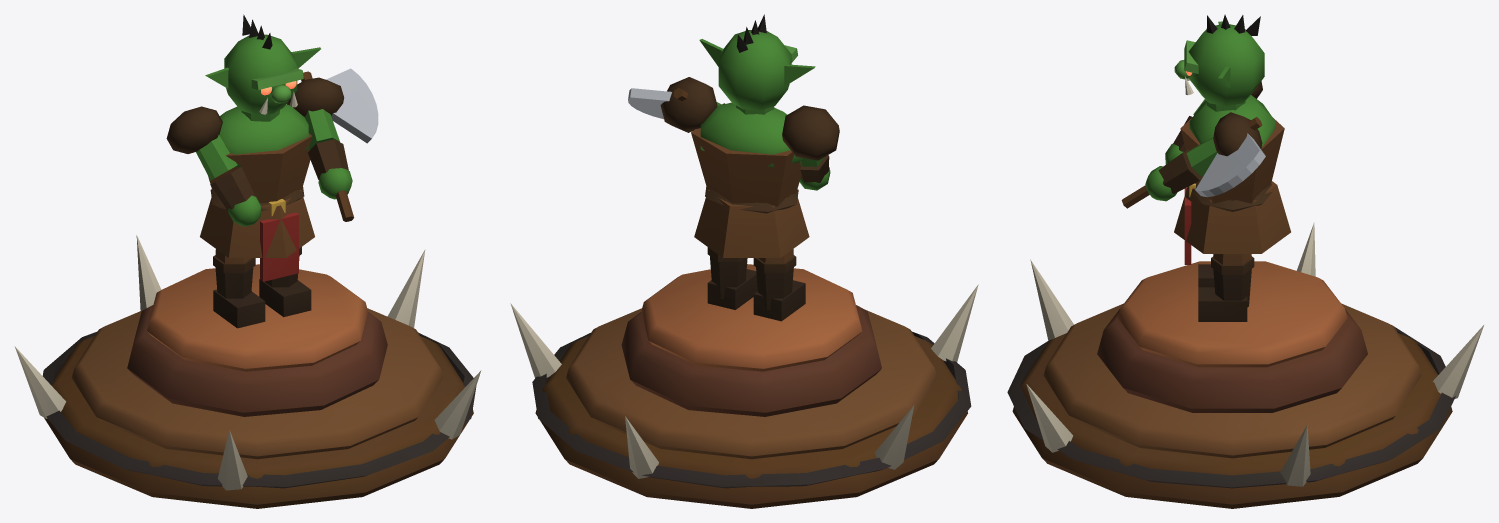
File: horde_1.glb
3 views of the same model, side by side, from view 1: azimuth 30°, elevation 25°; view 2: azimuth 150°, elevation 25°; view 3: azimuth 270°, elevation 25° (orthographic).
Parts seen in each view (by area): view 1: horde_1_peint, Buste_peint, Crane_peint, BrasG_peint, BrasD_peint, JambeG_peint, Arme_peint, JambeD_peint; view 2: horde_1_peint, Buste_peint, Crane_peint, BrasG_peint, JambeG_peint, JambeD_peint, BrasD_peint, Arme_peint; view 3: horde_1_peint, Buste_peint, Crane_peint, BrasD_peint, JambeD_peint, Arme_peint.
Boxes of the visible parts, x1=… form: horde_1_peint: x1=14, y1=235, x2=481, y2=508; Buste_peint: x1=200, y1=104, x2=314, y2=281; Crane_peint: x1=205, y1=14, x2=320, y2=114; BrasG_peint: x1=166, y1=106, x2=261, y2=226; BrasD_peint: x1=286, y1=77, x2=352, y2=199; JambeG_peint: x1=213, y1=249, x2=265, y2=328; Arme_peint: x1=301, y1=68, x2=378, y2=221; JambeD_peint: x1=259, y1=247, x2=311, y2=317; horde_1_peint: x1=510, y1=264, x2=978, y2=508; Buste_peint: x1=691, y1=102, x2=809, y2=257; Crane_peint: x1=699, y1=14, x2=815, y2=110; BrasG_peint: x1=782, y1=105, x2=839, y2=190; JambeG_peint: x1=753, y1=249, x2=805, y2=321; JambeD_peint: x1=707, y1=247, x2=757, y2=309; BrasD_peint: x1=660, y1=77, x2=724, y2=132; Arme_peint: x1=628, y1=88, x2=687, y2=119; horde_1_peint: x1=1007, y1=222, x2=1483, y2=508; Buste_peint: x1=1174, y1=95, x2=1290, y2=264; Crane_peint: x1=1174, y1=14, x2=1264, y2=106; BrasD_peint: x1=1145, y1=112, x2=1262, y2=201; JambeD_peint: x1=1198, y1=254, x2=1254, y2=321; Arme_peint: x1=1121, y1=117, x2=1265, y2=208.
Bounding box in the file's own units: 0.9055 × 0.8445 × 0.9026.
